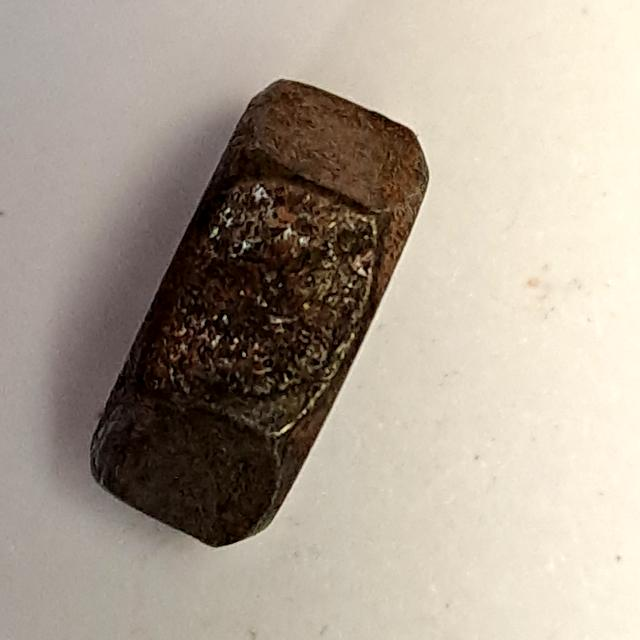Side_Rust: (72, 70, 449, 562)
